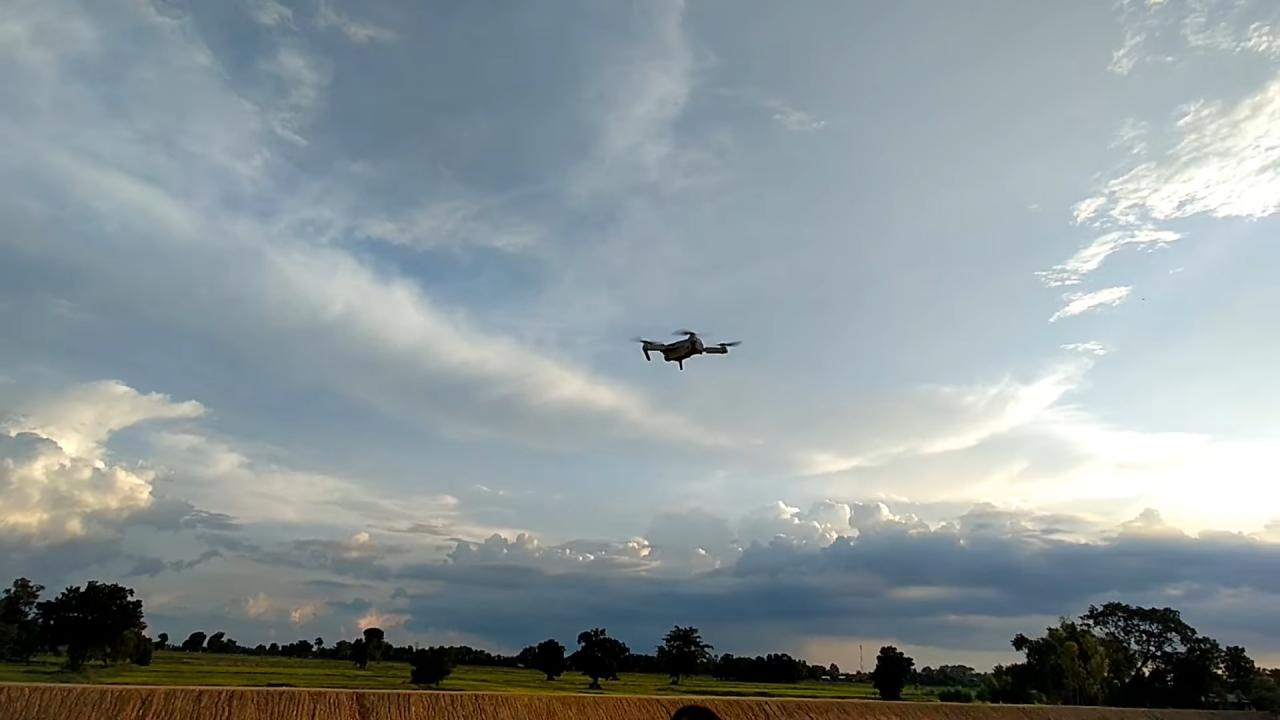Drone: (627, 320, 747, 376)
